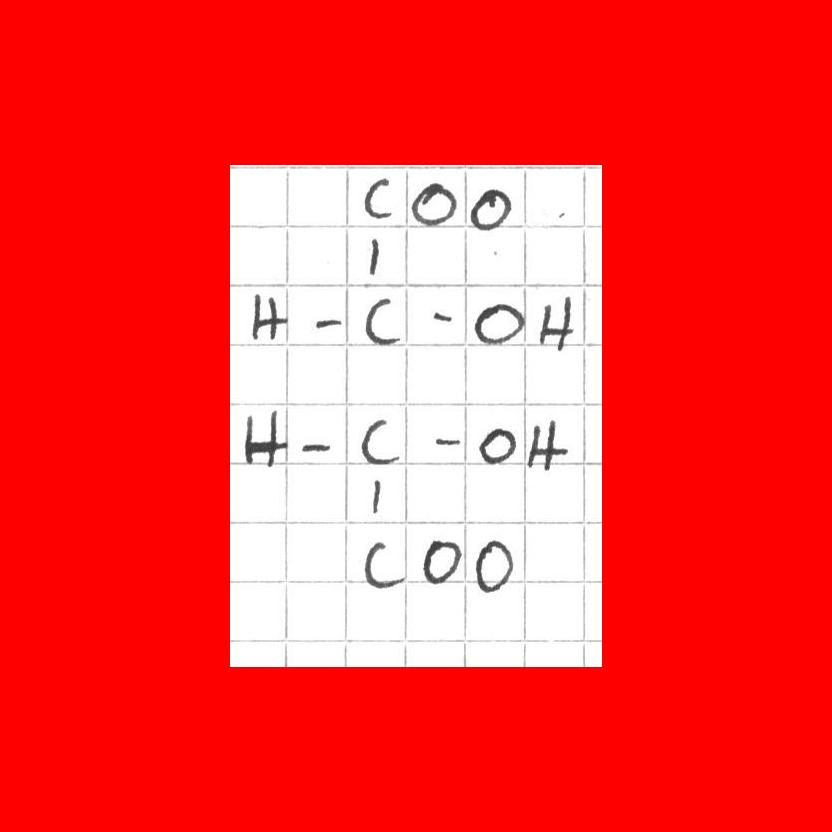Char: (243, 408, 286, 468), (473, 536, 516, 595), (522, 417, 567, 471), (410, 180, 458, 230), (473, 301, 526, 346), (356, 416, 401, 468), (363, 538, 407, 589), (537, 294, 575, 351), (419, 538, 462, 588), (469, 187, 513, 235), (362, 294, 400, 349), (250, 289, 286, 344), (477, 424, 517, 464), (362, 175, 393, 223), (364, 233, 384, 281), (367, 475, 385, 518), (298, 437, 331, 456), (311, 315, 345, 333), (431, 431, 460, 451), (430, 308, 456, 326), (552, 205, 571, 223)
